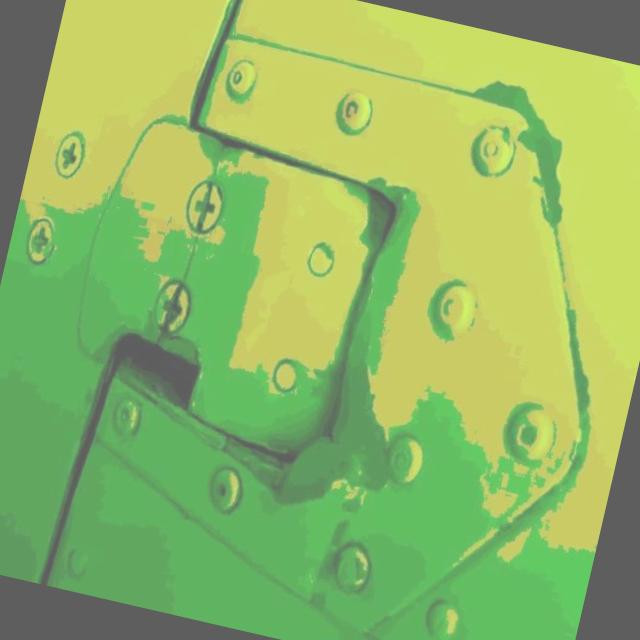crack: (170, 230, 206, 283)
